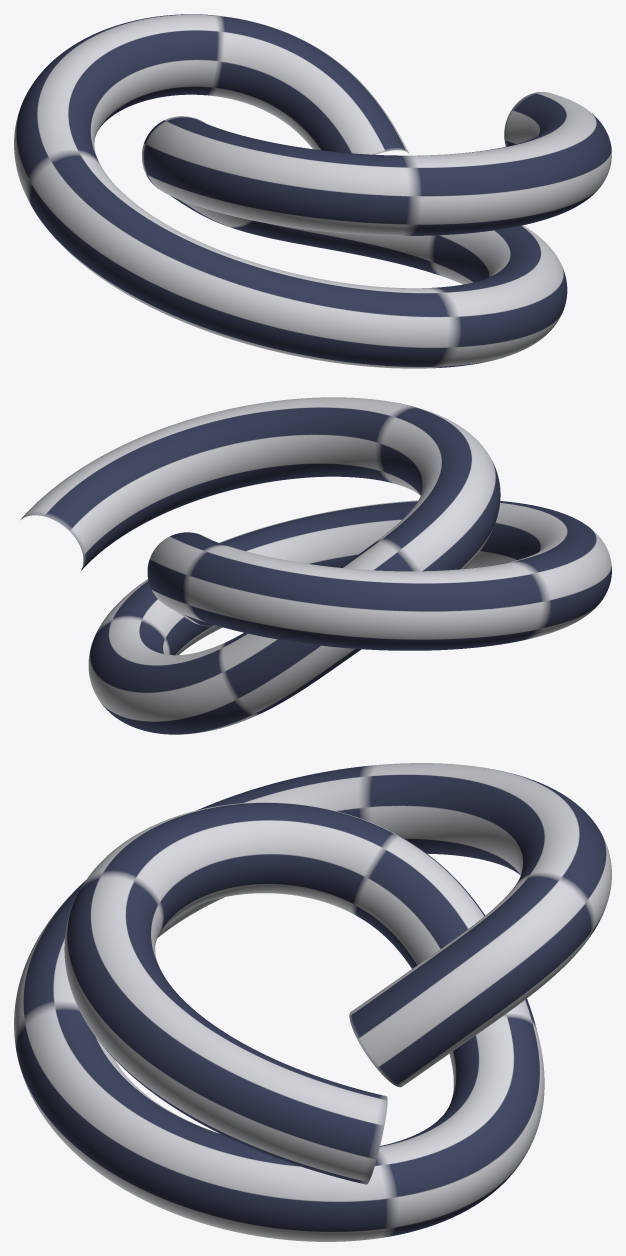
Rendered from TorusKnotDense.glb.
The picture shows the model from 3 angles, top to bottom: view 1: azimuth 30°, elevation 25°; view 2: azimuth 150°, elevation 25°; view 3: azimuth 270°, elevation 25°; orthographic projection. The views are drawn at different scales.
Bounding box in the file's own units: 2.64 × 1.14 × 2.21.
1 material, 1 textured.
